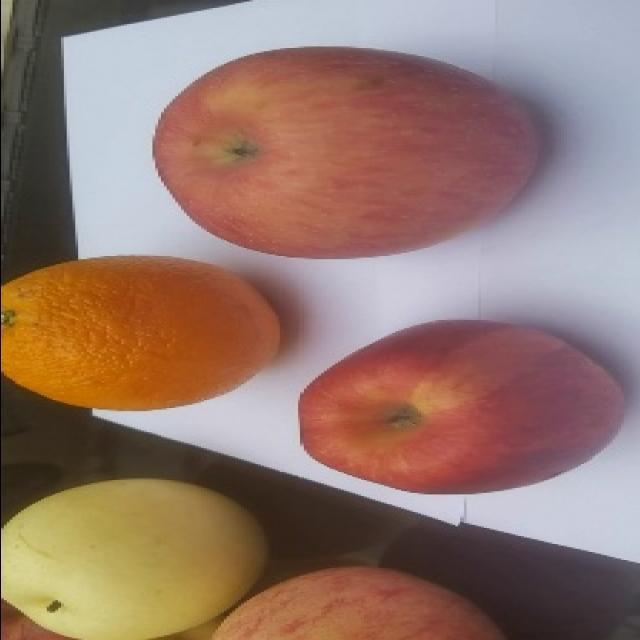Apple: (151, 44, 543, 259), (297, 317, 626, 495), (210, 564, 506, 639)
Orange: (0, 253, 281, 410)
